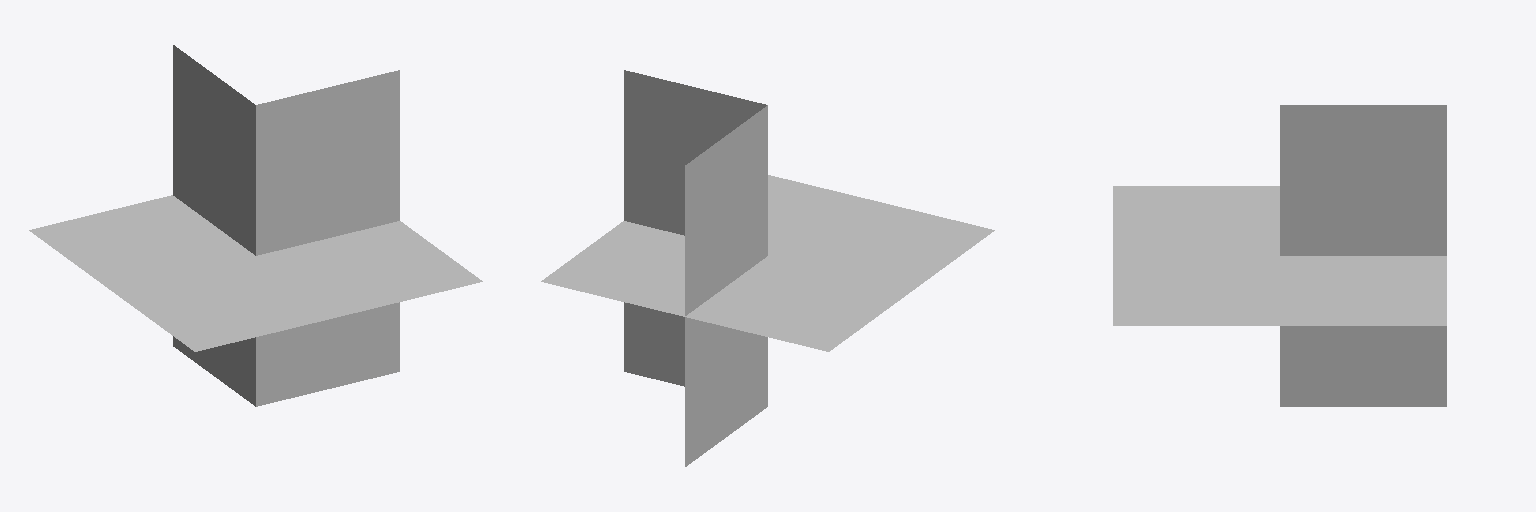
The picture shows the model from 3 angles: view 1: azimuth 30°, elevation 25°; view 2: azimuth 150°, elevation 25°; view 3: azimuth 270°, elevation 25°; orthographic projection.
Parts seen in each view (by area): view 1: 0001_1110_立方体.096; view 2: 0001_1110_立方体.096; view 3: 0001_1110_立方体.096.
Part boxes in pixels (x1,y1,x2,y2): 0001_1110_立方体.096: (29, 45, 482, 406); 0001_1110_立方体.096: (541, 70, 994, 466); 0001_1110_立方体.096: (1113, 105, 1446, 406).
Size of the model in its own units: 1 by 1 by 1.